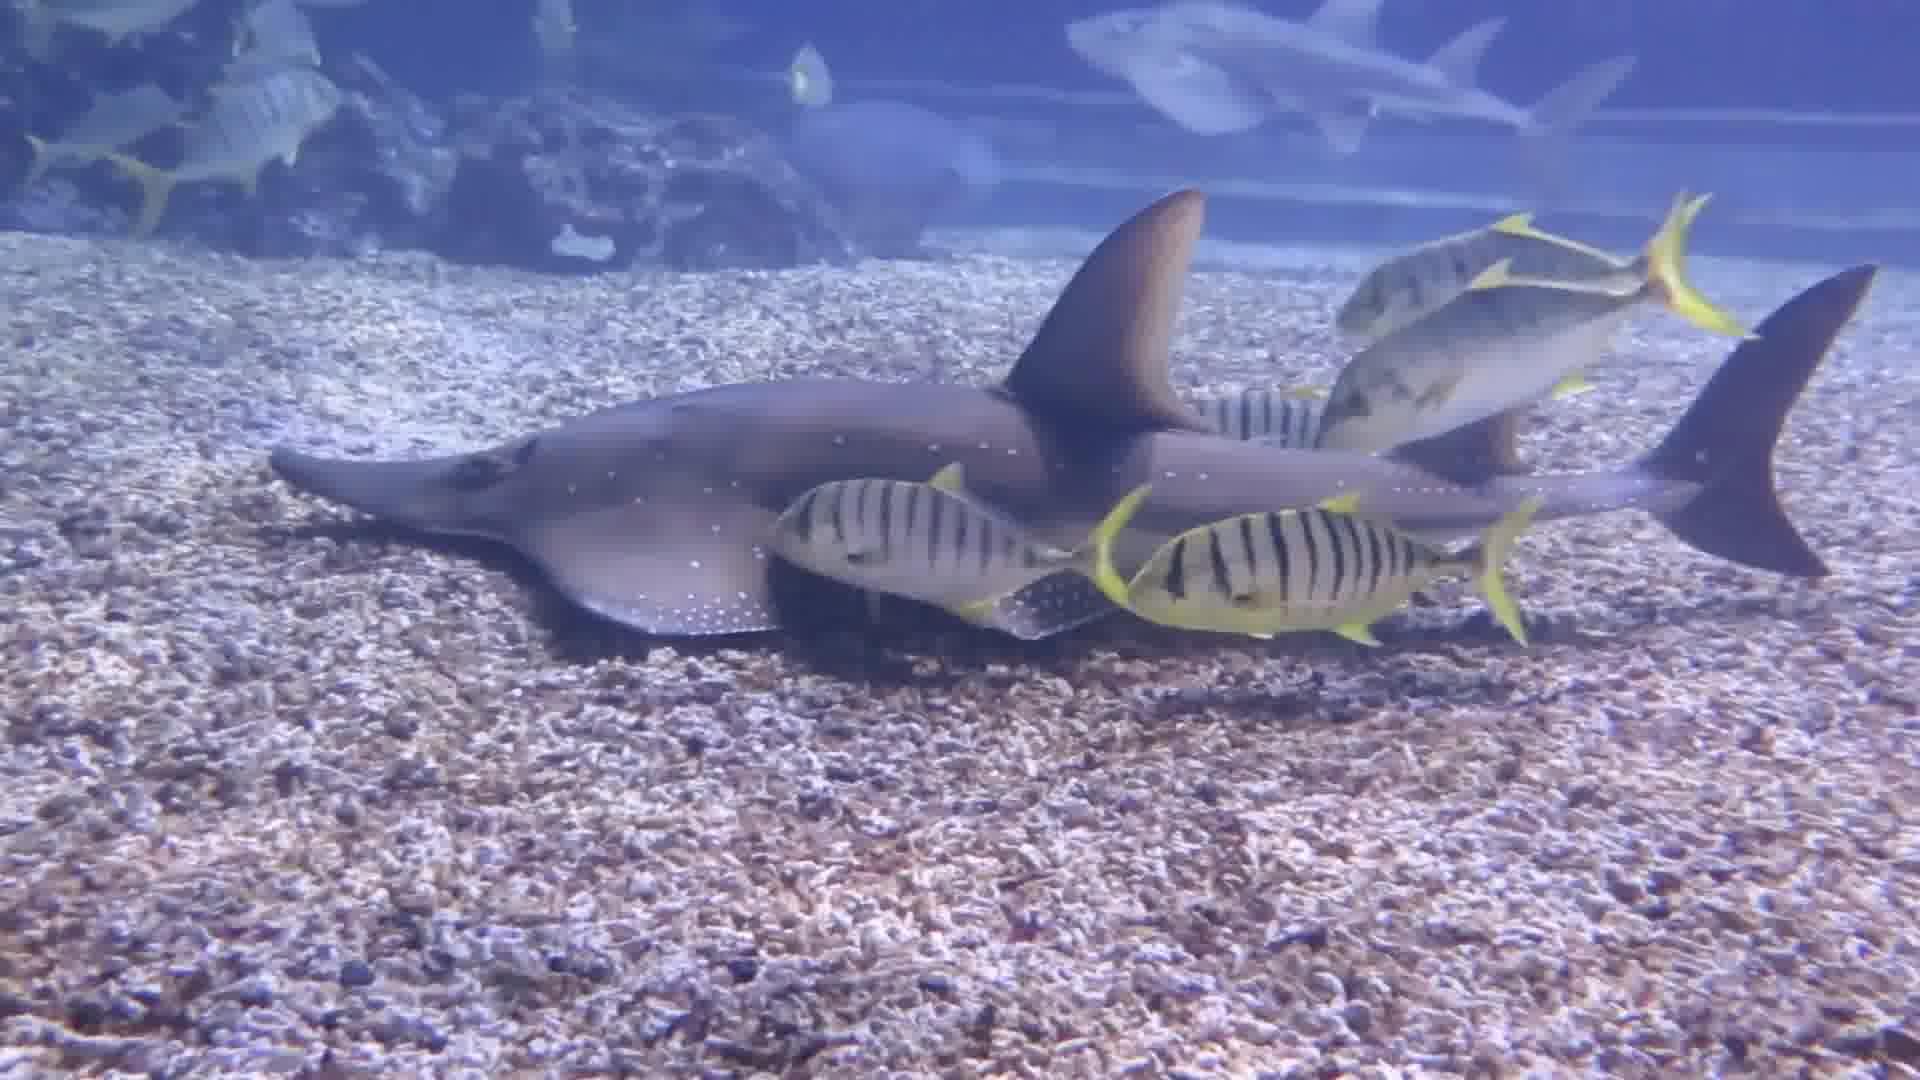Rhychobatus djiddensis: (215, 194, 1865, 673)
